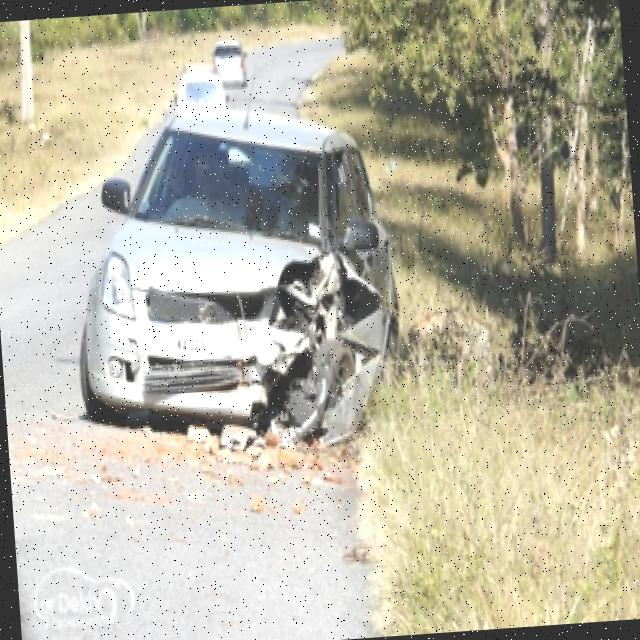Autre: (154, 322, 233, 367)
